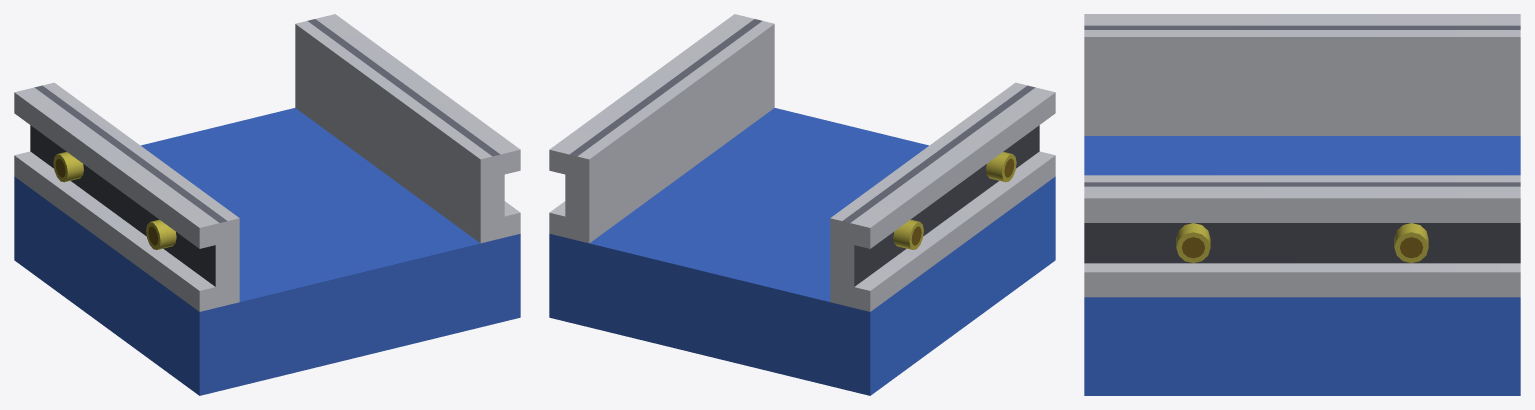
The model's file is NF_Belt_Middle.fbx.
3 renders of one model, left to right at view 1: azimuth 30°, elevation 25°; view 2: azimuth 150°, elevation 25°; view 3: azimuth 270°, elevation 25°, orthographic. The views are drawn at different scales.
Parts seen in each view (by area): view 1: NF_Belt_Middle; view 2: NF_Belt_Middle; view 3: NF_Belt_Middle.
Boxes of the visible parts, x1,y1,x2,y2 form: NF_Belt_Middle: [14, 14, 520, 395]; NF_Belt_Middle: [549, 14, 1055, 395]; NF_Belt_Middle: [1084, 14, 1520, 395].
Bounding box in the file's own units: 1 × 0.5 × 1.
Materials: 1 (1 with a texture image).
